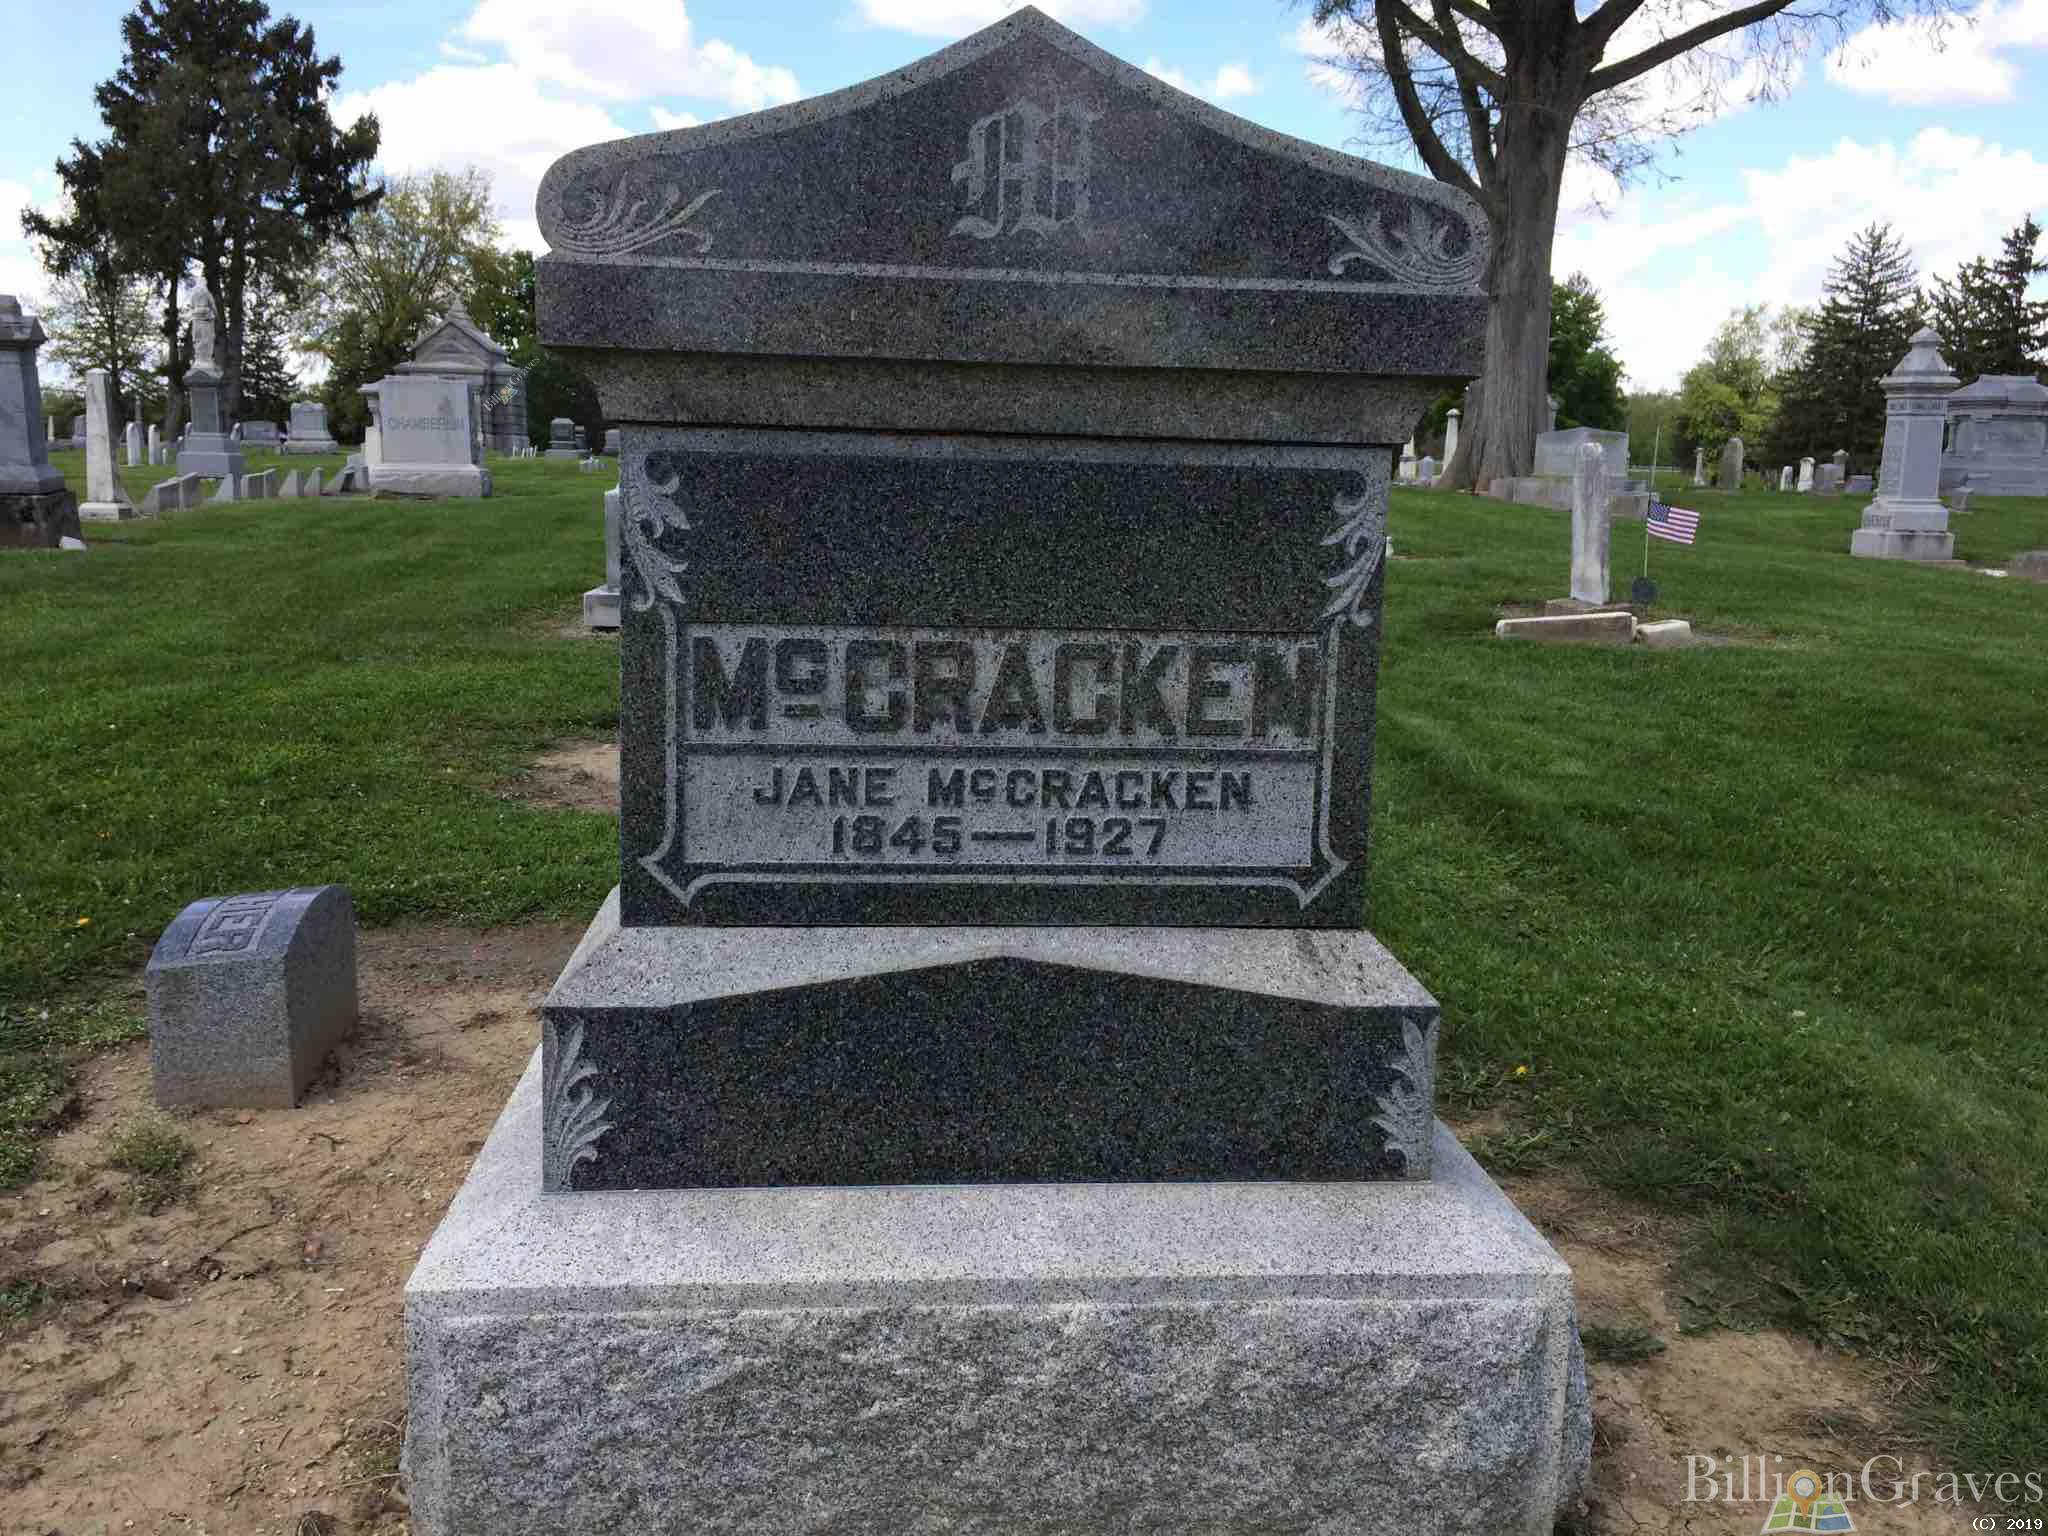upright: (393, 11, 1587, 1525)
